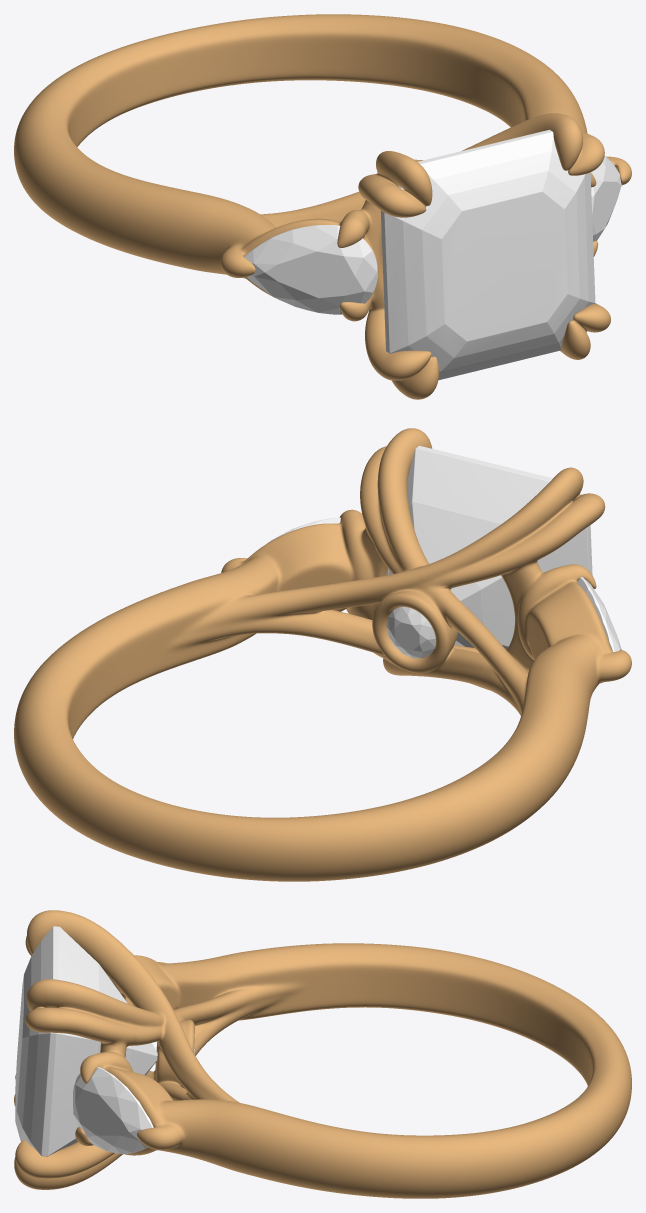
File: refined_mirror_trilogy.glb
The picture shows the model from 3 angles, top to bottom: view 1: azimuth 30°, elevation 25°; view 2: azimuth 150°, elevation 25°; view 3: azimuth 270°, elevation 25°; orthographic projection. The views are drawn at different scales.
Visible parts, largest first — view 1: ring, diamond_main, diamond_left, diamond_right; view 2: ring, diamond_main, diamond_bottom, diamond_left; view 3: ring, diamond_main, diamond_right.
Part boxes in pixels (box(x1,y1,x2,y2)): ring: box(14, 14, 631, 399); diamond_main: box(380, 129, 595, 380); diamond_left: box(244, 225, 377, 314); diamond_right: box(591, 156, 621, 241); ring: box(14, 428, 631, 881); diamond_main: box(387, 445, 592, 649); diamond_bottom: box(386, 607, 435, 658); diamond_left: box(577, 577, 621, 651); ring: box(14, 910, 631, 1198); diamond_main: box(15, 926, 157, 1156); diamond_right: box(72, 1067, 153, 1153).
Bounding box in the file's own units: 2.44 × 1.11 × 2.97.
